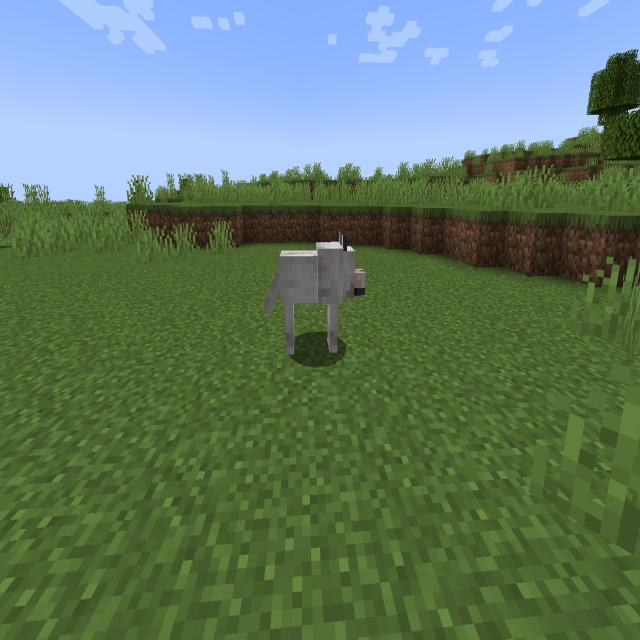Wolf: (260, 221, 373, 375)
